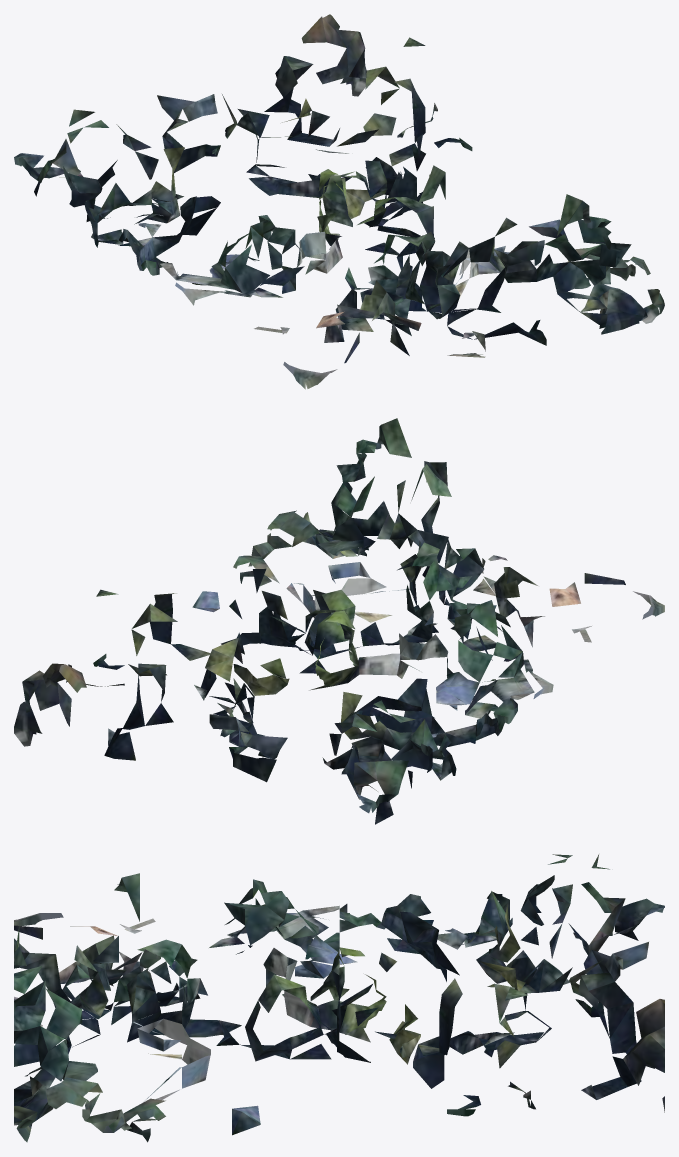
3 renders of one model, top to bottom at view 1: azimuth 30°, elevation 25°; view 2: azimuth 150°, elevation 25°; view 3: azimuth 270°, elevation 25°, orthographic. The views are drawn at different scales.
Visible parts, largest first — view 1: 3043627270436142672_1; view 2: 3043627270436142672_1; view 3: 3043627270436142672_1.
Boxes of the visible parts, bbox=[...] form: 3043627270436142672_1: bbox=[14, 14, 664, 389]; 3043627270436142672_1: bbox=[14, 418, 664, 824]; 3043627270436142672_1: bbox=[14, 854, 664, 1142].
Bounding box in the file's own units: 54.62 × 22.5 × 76.51.
1 material, 1 textured.
